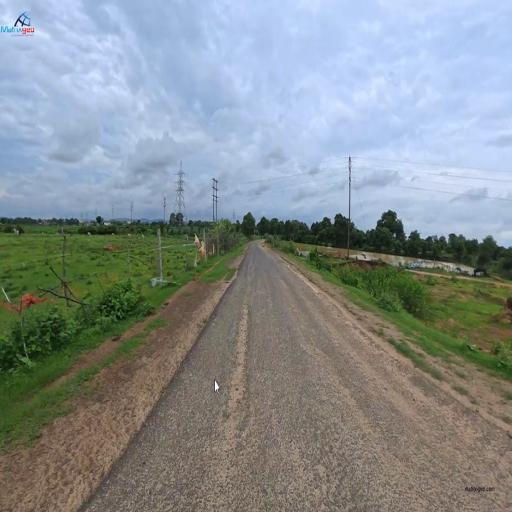ravelling: (228, 281, 254, 460)
